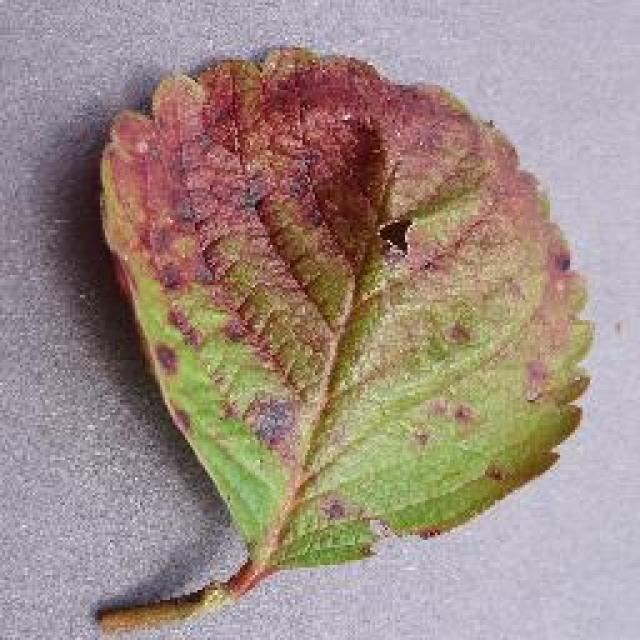Strawberry leaf scorch: (124, 72, 564, 425)
